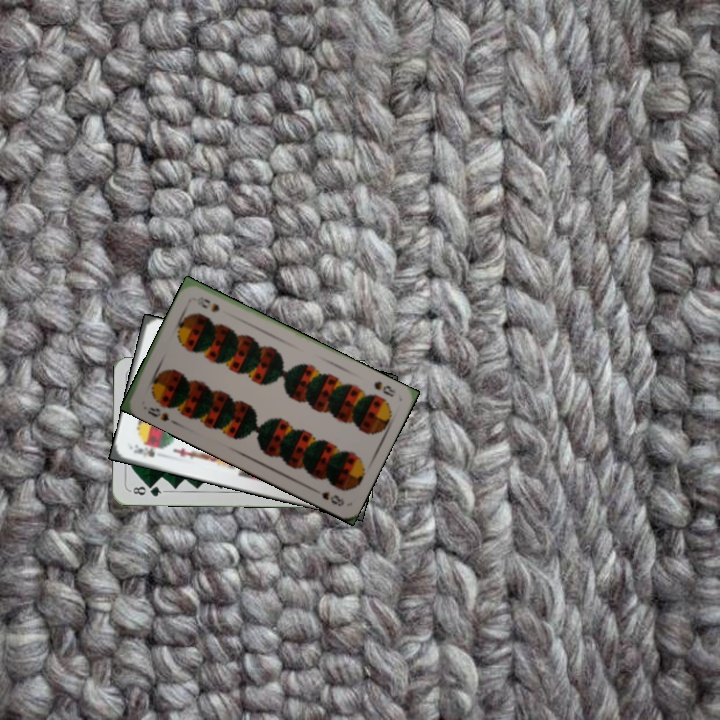G8: (127, 481, 167, 499)
S8: (370, 377, 398, 399), (143, 403, 172, 424)
SK: (130, 441, 158, 460)
